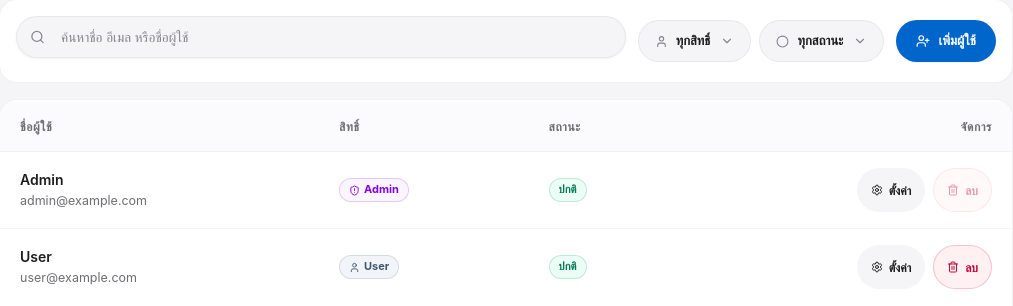
Scenario: UserManagement — search, filters and paging › sends the typed term to the API and renders only the matches
The width and height of the screenshot is (1013, 306).
Type "user@" into the search field named "ค้นหาผู้ใช้" at (321, 37), box 16,16 -> 626,58
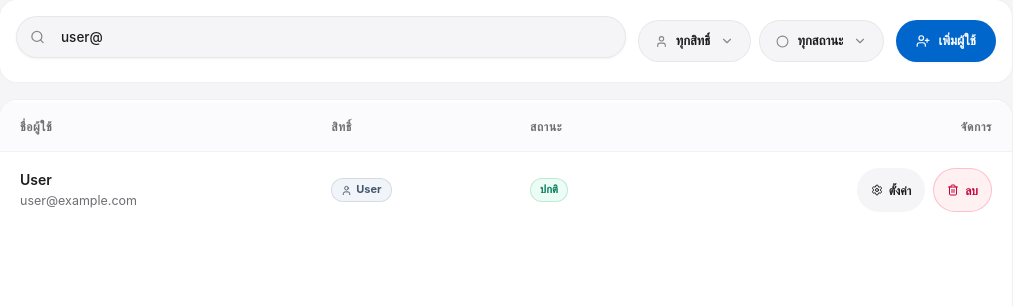
Expected: the text "admin@example.com" is gone
